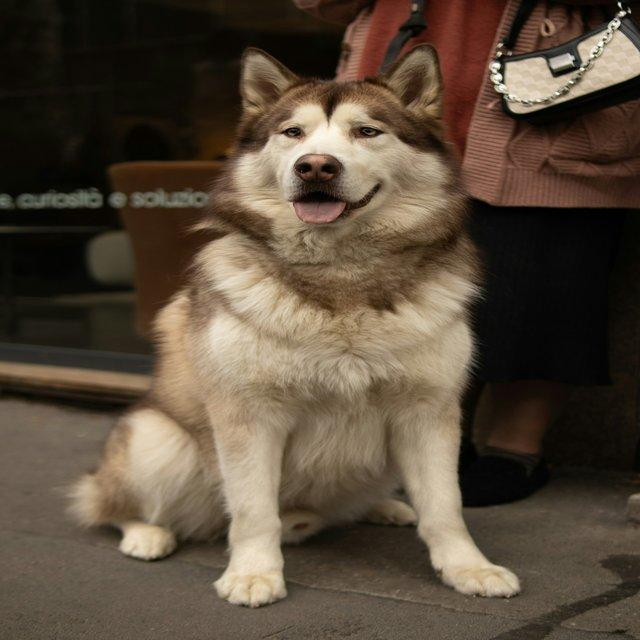husky: (64, 42, 522, 608)
